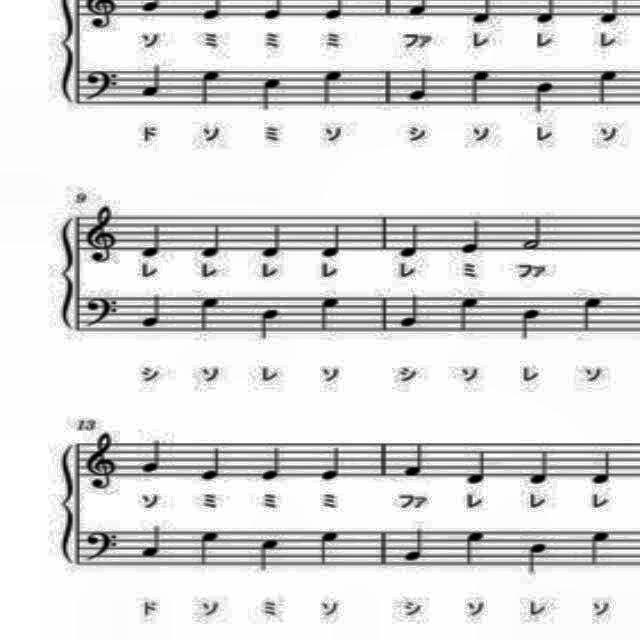Bass-clef: (80, 294, 124, 334), (81, 63, 119, 105), (82, 527, 124, 565)
Half-note: (519, 214, 545, 252)
Quarter-note: (456, 214, 492, 258), (192, 290, 224, 334), (514, 302, 546, 346), (401, 518, 433, 562), (316, 214, 344, 262), (197, 524, 225, 572), (257, 72, 287, 116), (466, 63, 494, 109), (316, 291, 344, 337), (318, 442, 347, 486), (139, 216, 165, 264), (396, 220, 424, 264), (138, 290, 166, 334), (400, 438, 428, 482), (460, 526, 488, 570), (585, 524, 613, 568), (574, 296, 606, 334), (405, 62, 435, 102), (594, 65, 622, 107), (259, 220, 287, 262), (254, 446, 286, 482), (316, 522, 340, 570), (258, 532, 284, 576), (136, 438, 166, 476), (138, 64, 166, 104), (532, 78, 560, 118), (196, 222, 224, 262), (256, 304, 284, 344), (199, 444, 227, 484), (588, 448, 616, 488), (138, 520, 166, 560), (398, 288, 420, 336), (458, 292, 482, 336), (524, 538, 552, 574), (200, 68, 224, 108), (320, 66, 344, 106), (466, 448, 490, 487), (528, 449, 552, 487)
Treble-clef: (85, 430, 127, 494), (82, 204, 120, 266)
